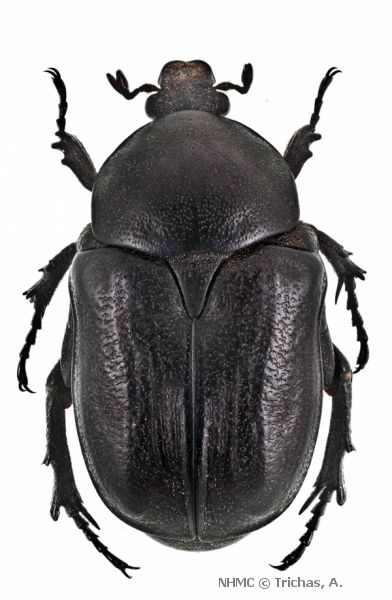Protaetia_vidua: (14, 37, 379, 579)
